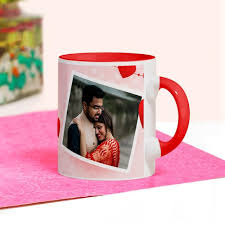mug: (51, 45, 191, 190)
